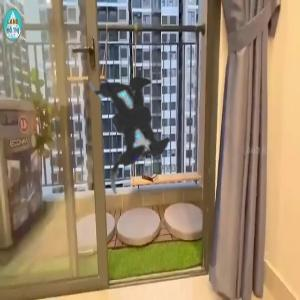drone: (27, 8, 242, 223)
